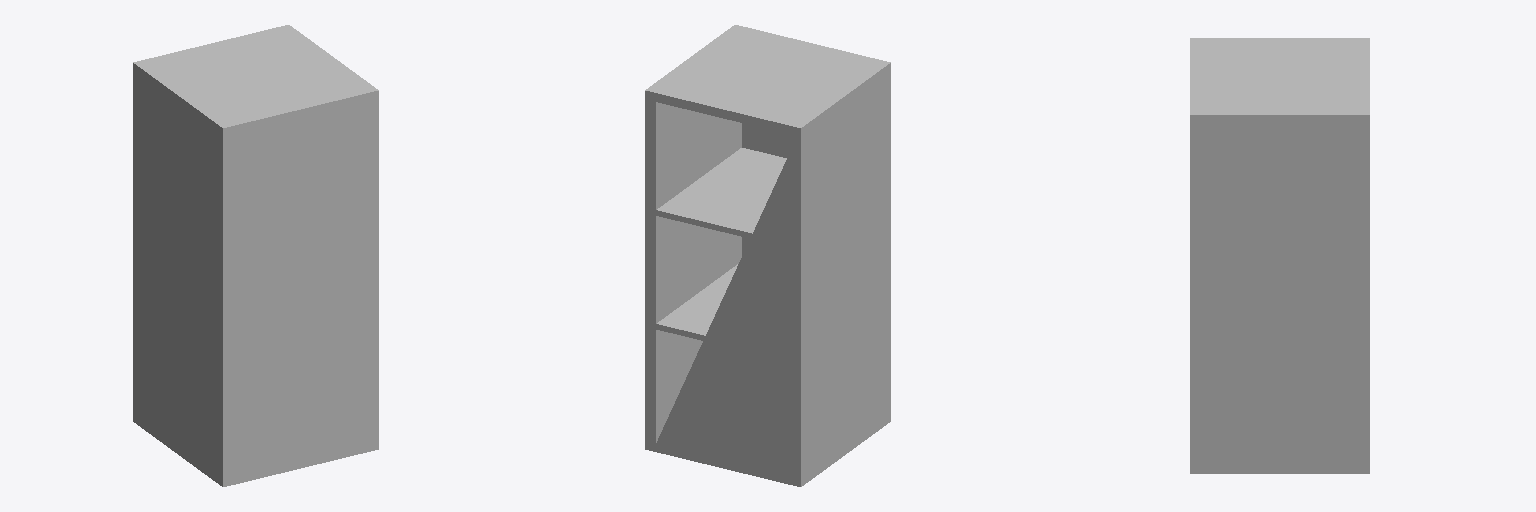
File: refri_3.obj
The picture shows the model from 3 angles: view 1: azimuth 30°, elevation 25°; view 2: azimuth 150°, elevation 25°; view 3: azimuth 270°, elevation 25°; orthographic projection.
Visible parts, largest first — view 1: Cubo.004_Cubo.001; view 2: Cubo.004_Cubo.001; view 3: Cubo.004_Cubo.001.
Part boxes in pixels (x1,y1,x2,y2): Cubo.004_Cubo.001: (133,25,378,486); Cubo.004_Cubo.001: (645,25,890,486); Cubo.004_Cubo.001: (1190,38,1369,473).
Bounding box in the file's own units: 1 × 2.2 × 1.